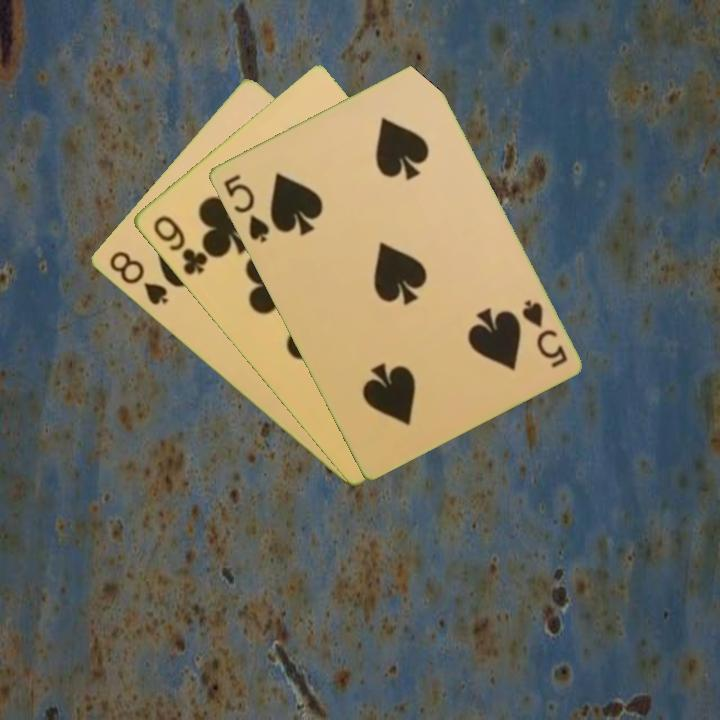5s: (219, 170, 272, 246), (517, 295, 570, 371)
8s: (105, 247, 171, 308)
9c: (148, 211, 210, 278)
